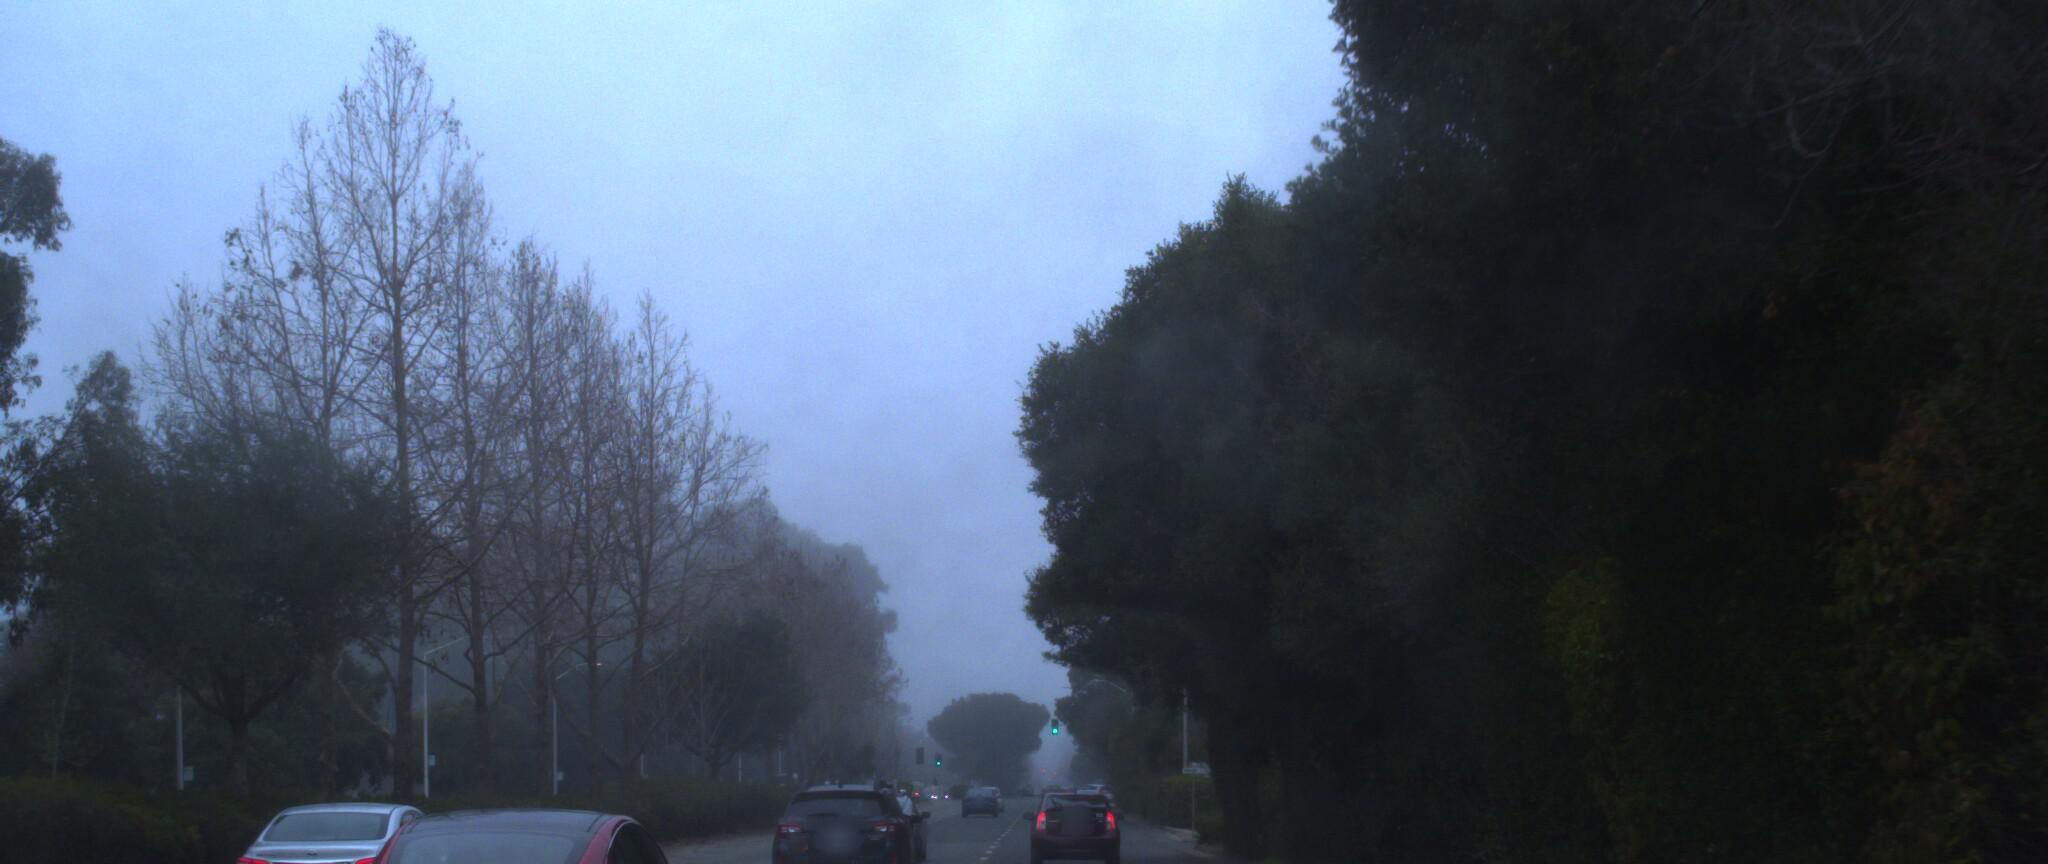car: (276, 797, 724, 864), (219, 790, 474, 864), (761, 761, 916, 864), (1016, 754, 1115, 854)
